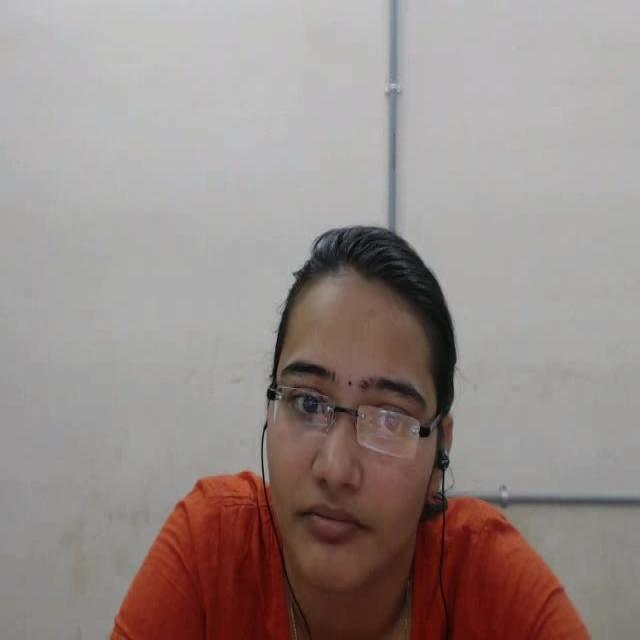Engaged: (237, 184, 502, 640)
